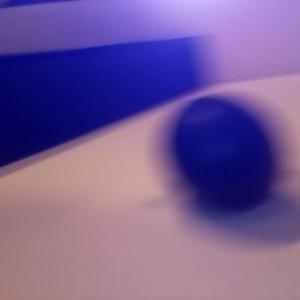dead_ball: (166, 97, 277, 212)
